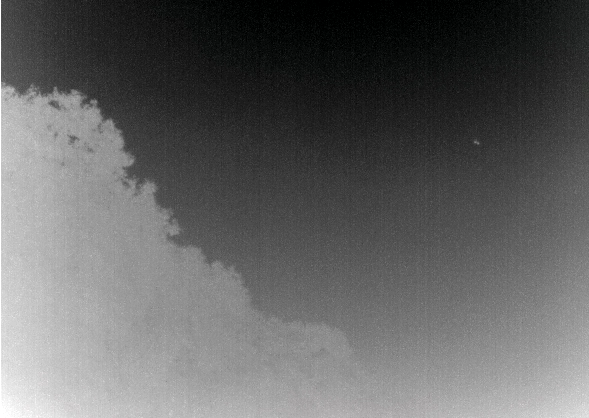dim target: (472, 136, 482, 146)
